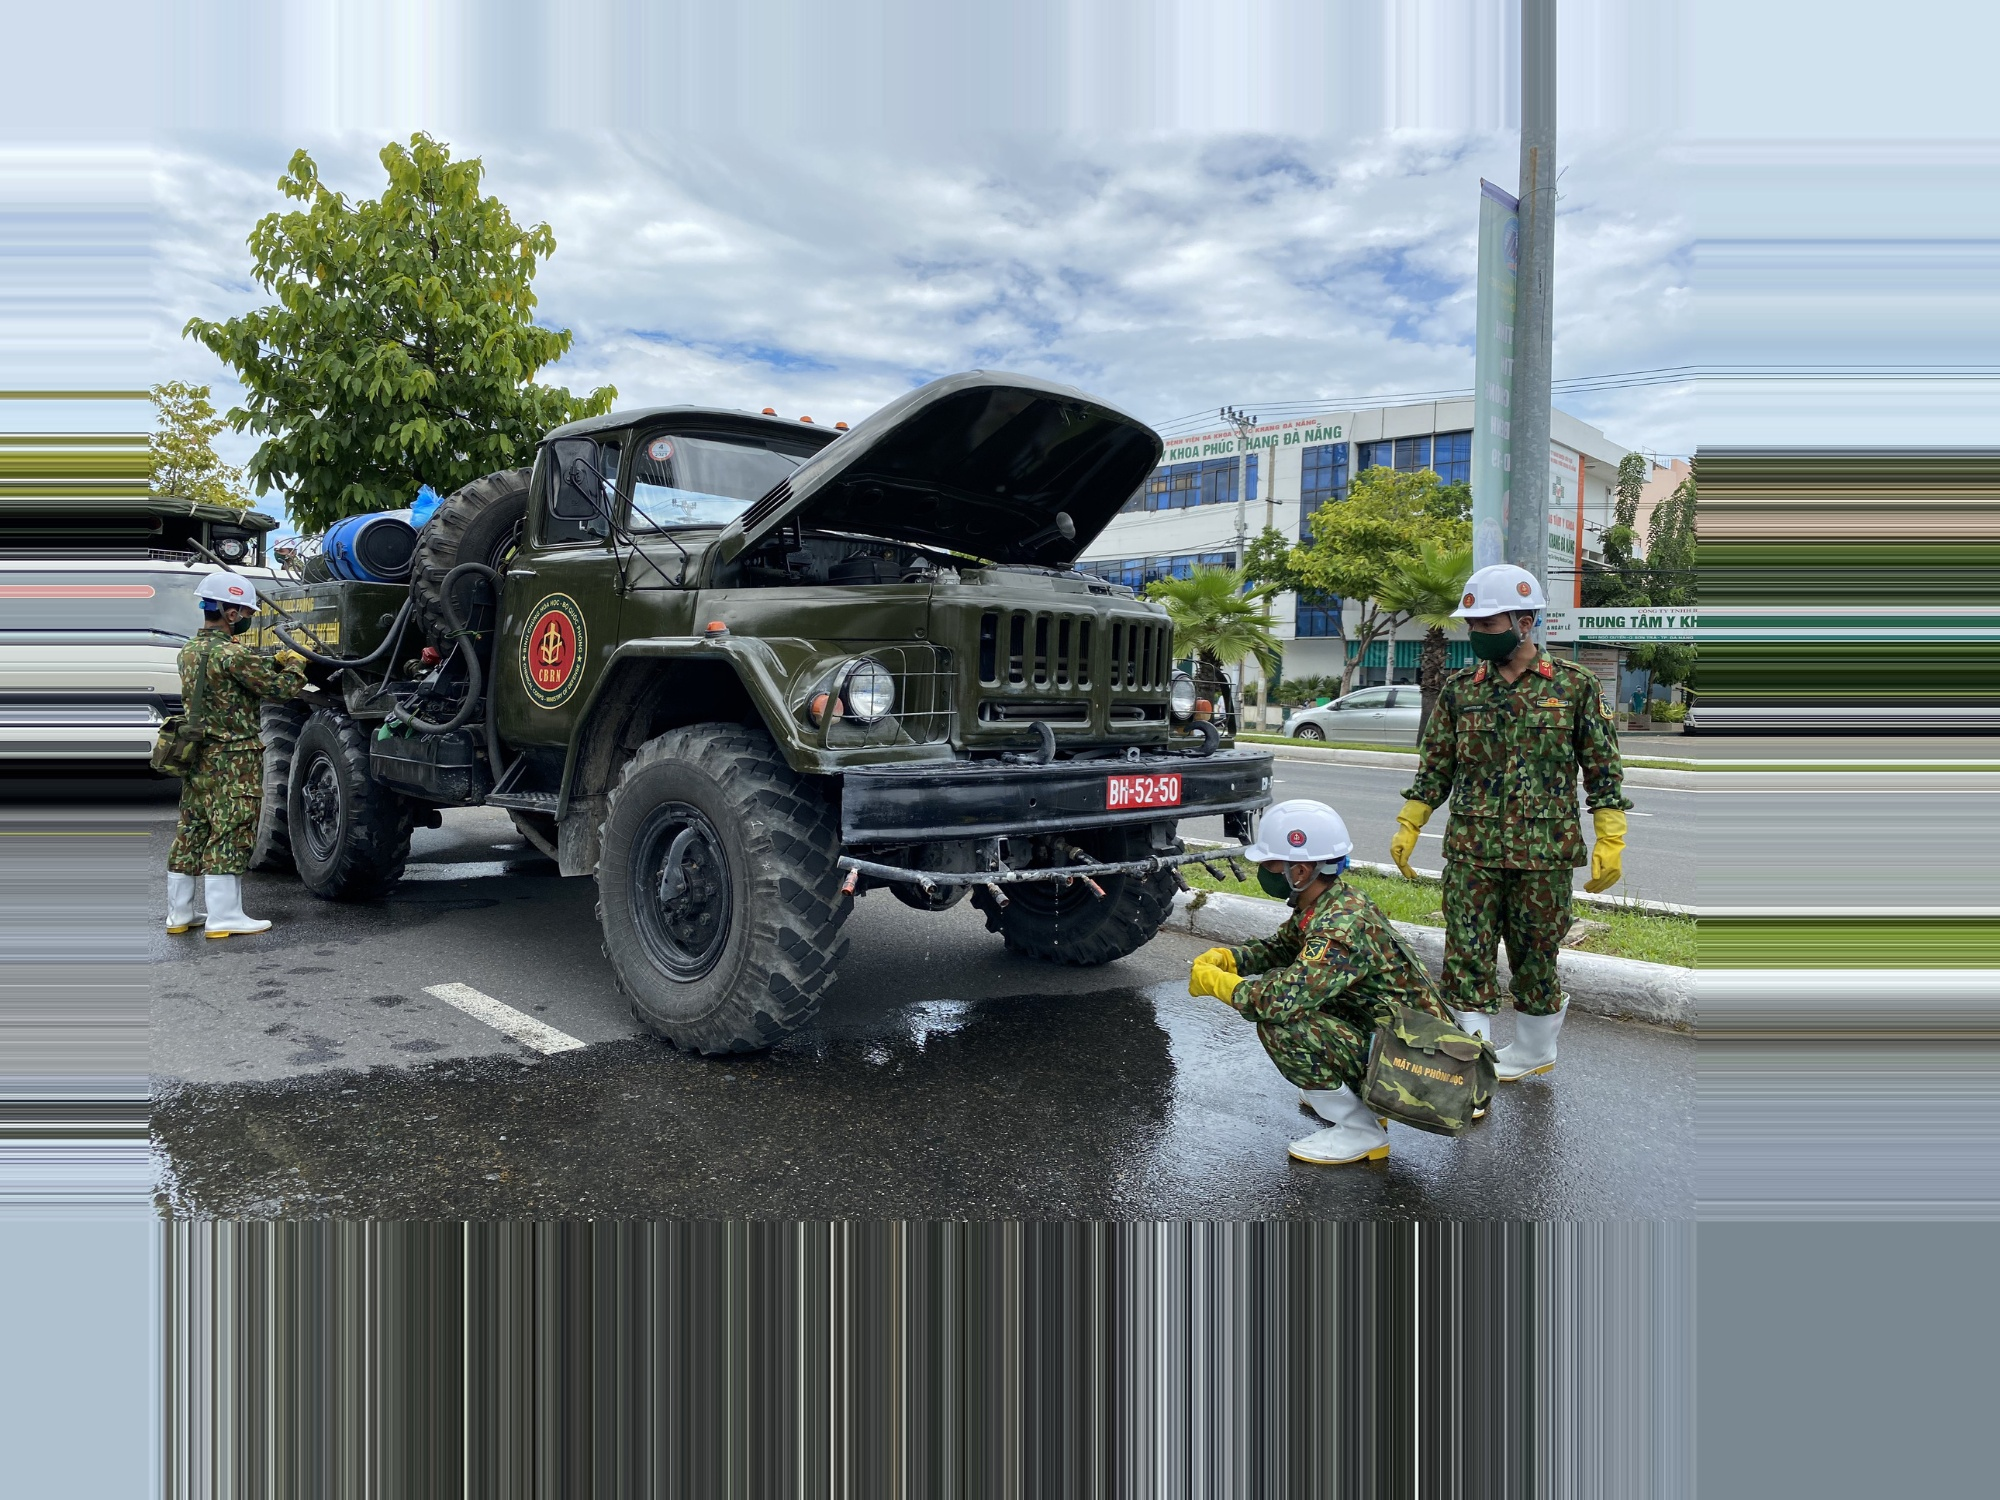plate: (1107, 770, 1187, 822)
